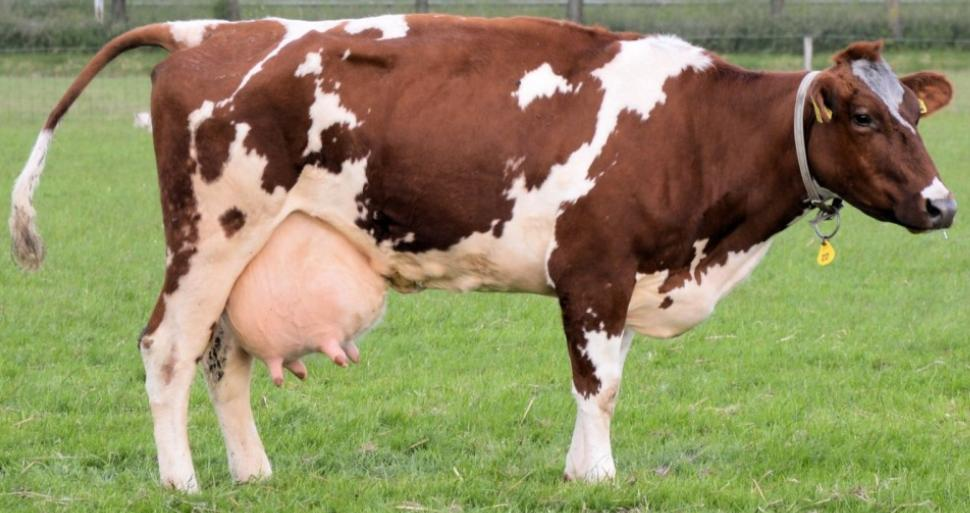cow: (13, 13, 956, 495)
